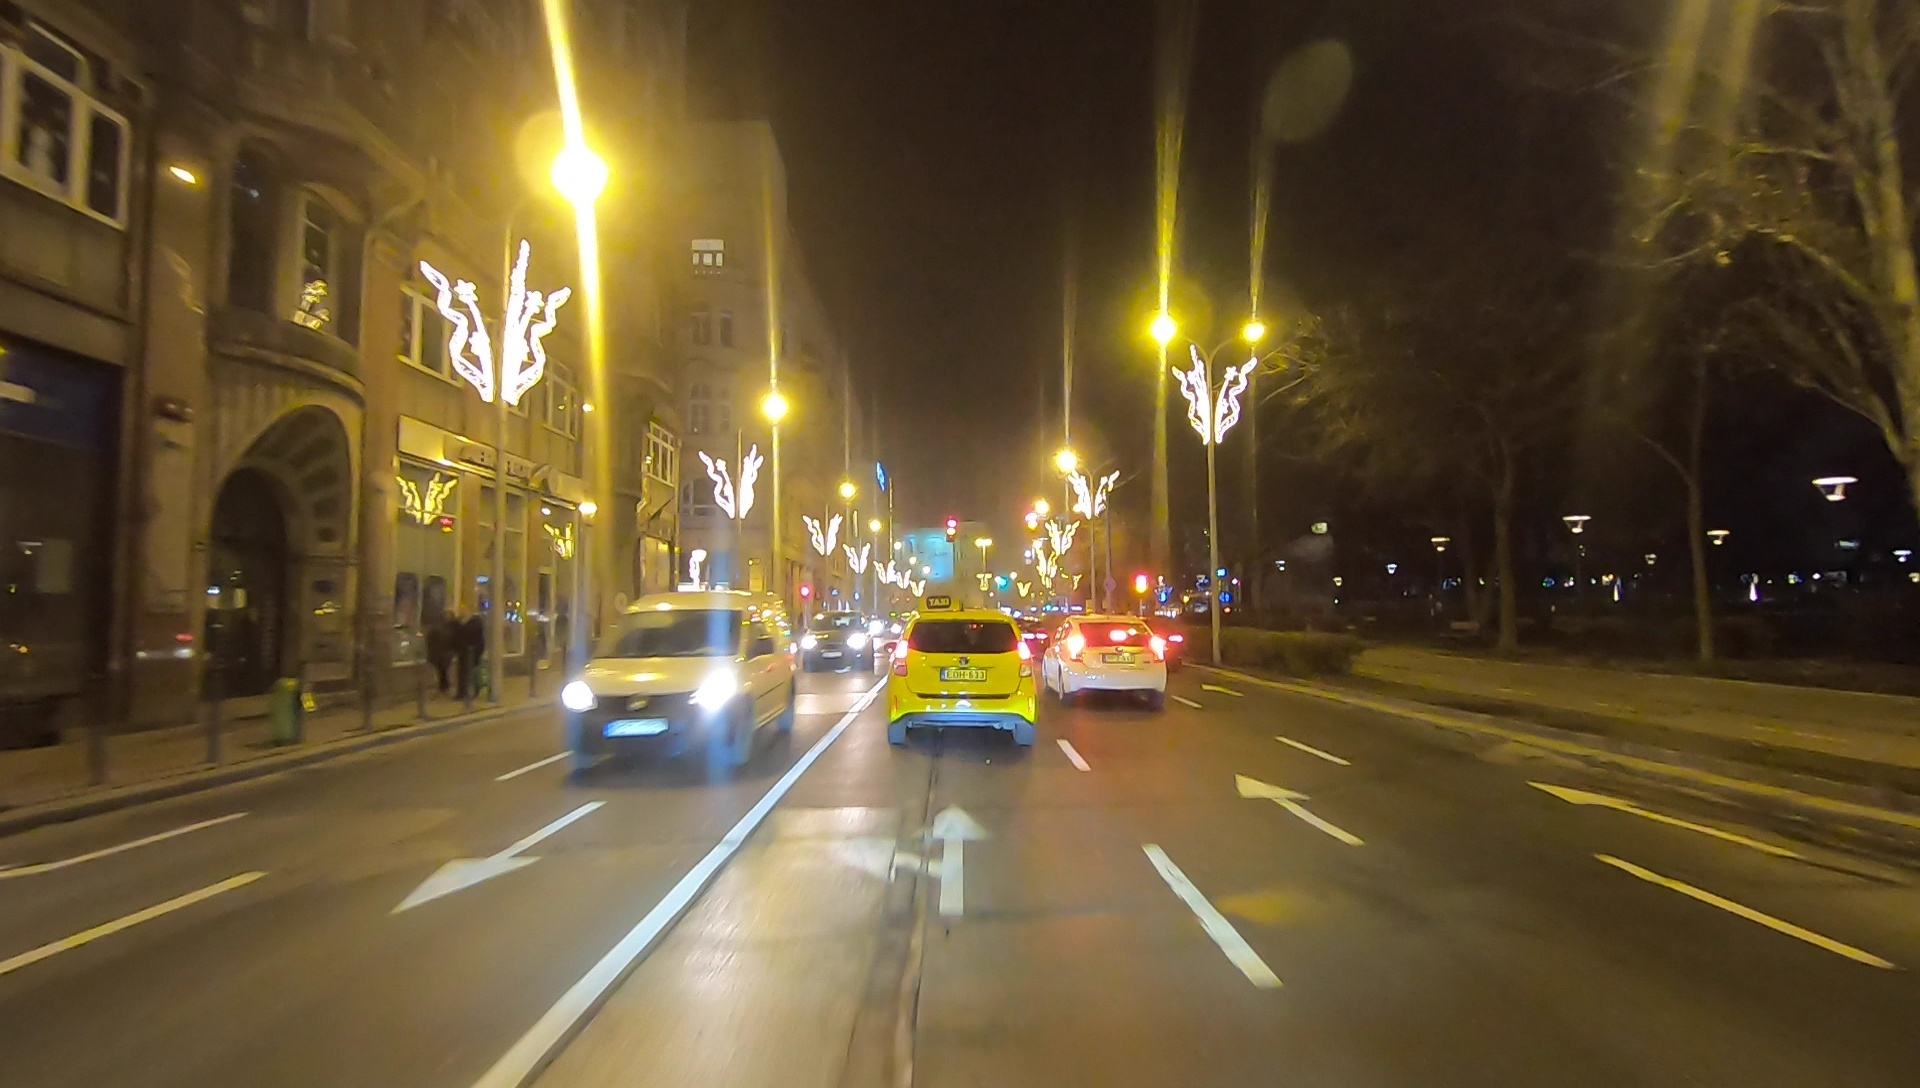person: (454, 611, 488, 702), (428, 611, 449, 702)
